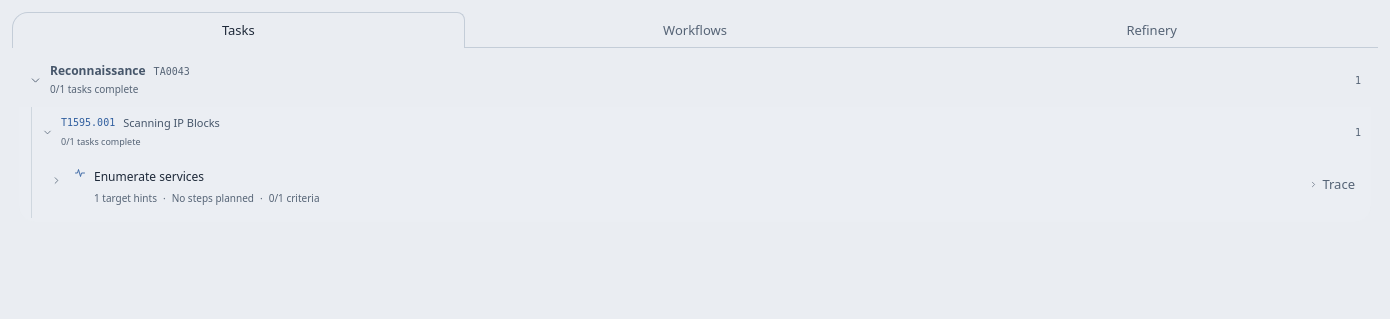
Scenario: TaskTreeTab › expands an Agent Task trace across the task content column
This screenshot has width=1390, height=319.
What coordinates should you click on to do the following:
click the button with aria-label "Show Agent Task run trace"
I would click on:
 (1332, 184)
Its box is x1=1303 y1=170 x2=1361 y2=198.
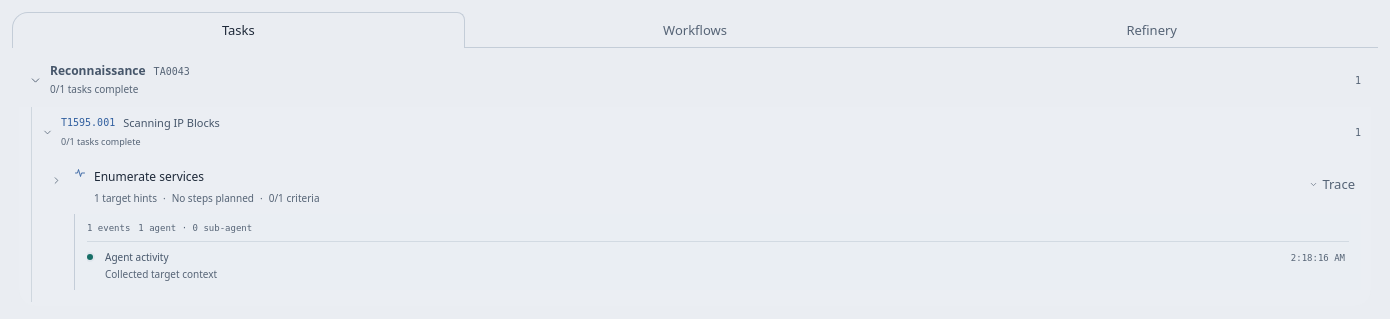
Now the text "Agent activity" is shown, box x1=105 y1=250 x2=168 y2=265
Now the text "Collected target context" is shown, box x1=105 y1=266 x2=217 y2=280
